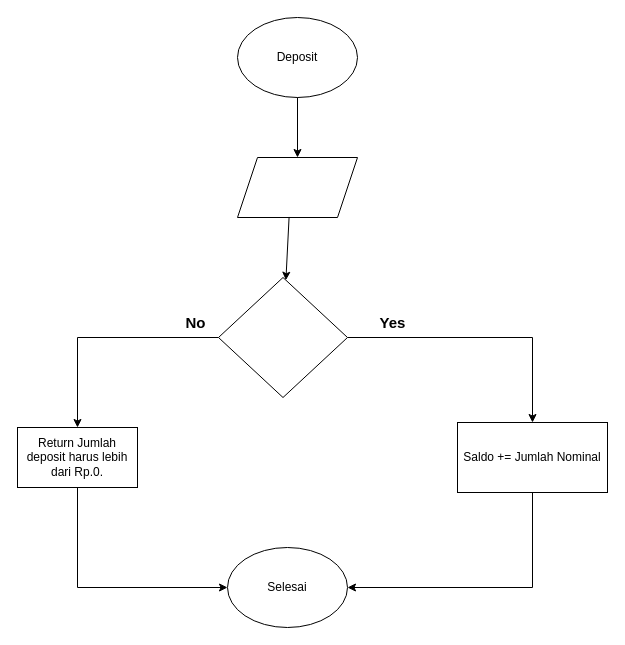
This 625x645 diagram has some shape labels left out. The shapes that lost their labels are listed below. From the top down, each one's box as (x1, y1, x2, y2) in pixels, then its label:
(236, 156, 358, 218): Jumlah Nominal
(218, 276, 348, 398): Jumlah Nominal > 0 ?
